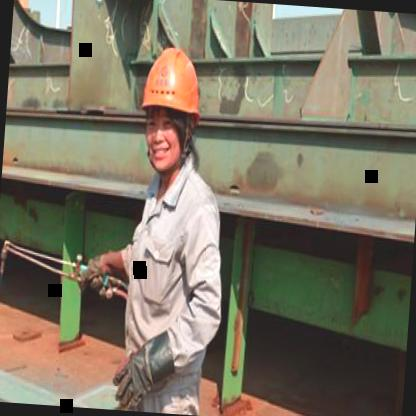helmet: (130, 32, 209, 188)
